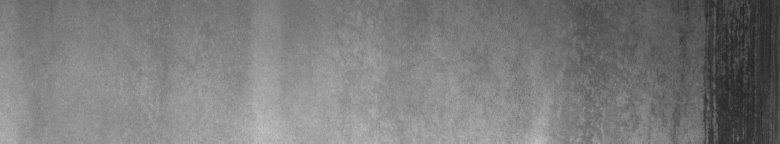ka: (584, 4, 776, 136)
